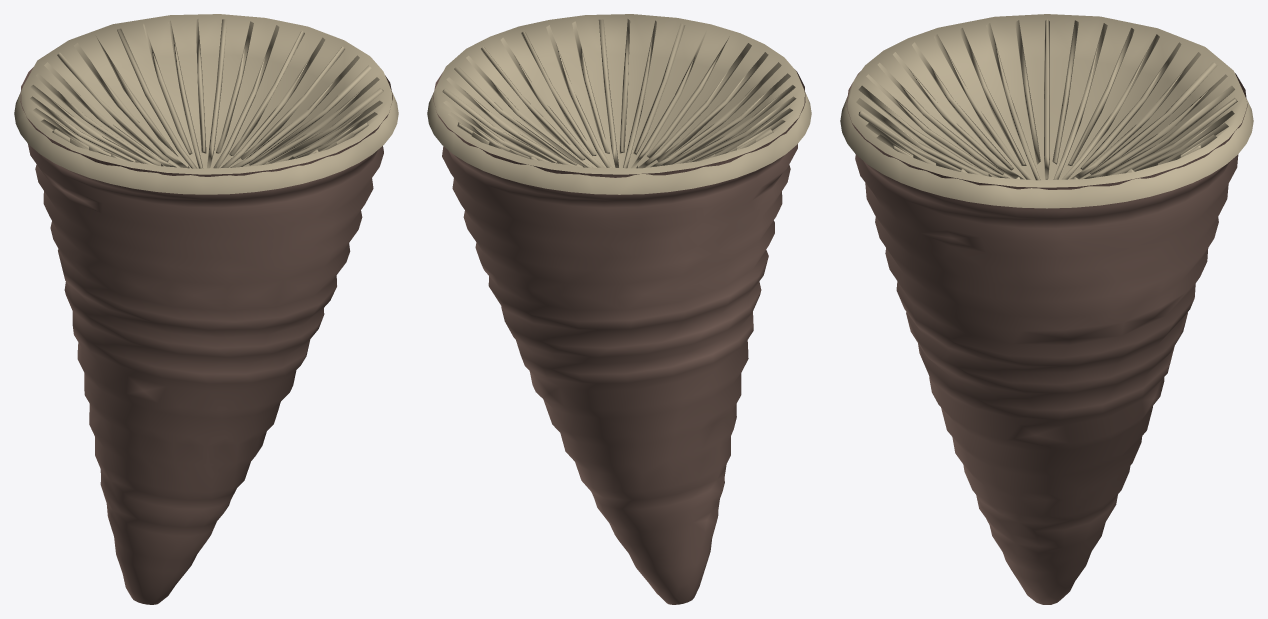
The model's file is solitary-rugose-coral.lod1.glb.
3 renders of one model, left to right at view 1: azimuth 30°, elevation 25°; view 2: azimuth 150°, elevation 25°; view 3: azimuth 270°, elevation 25°, orthographic. The views are drawn at different scales.
Visible parts, largest first — view 1: solitary-rugose-coral; view 2: solitary-rugose-coral; view 3: solitary-rugose-coral.
Part boxes in pixels (x1=…): solitary-rugose-coral: x1=14, y1=14, x2=398, y2=604; solitary-rugose-coral: x1=427, y1=14, x2=811, y2=604; solitary-rugose-coral: x1=840, y1=14, x2=1253, y2=604.
Size of the model in its own units: 0.0713 by 0.1015 by 0.0713.
